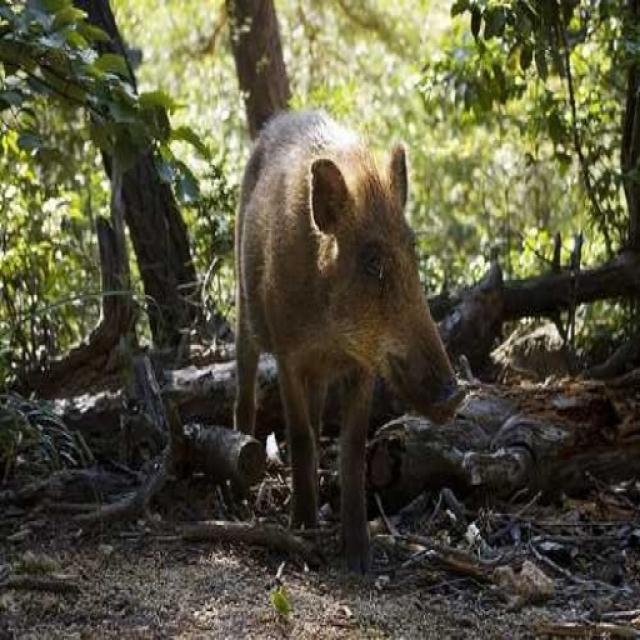pig: (217, 116, 473, 551)
